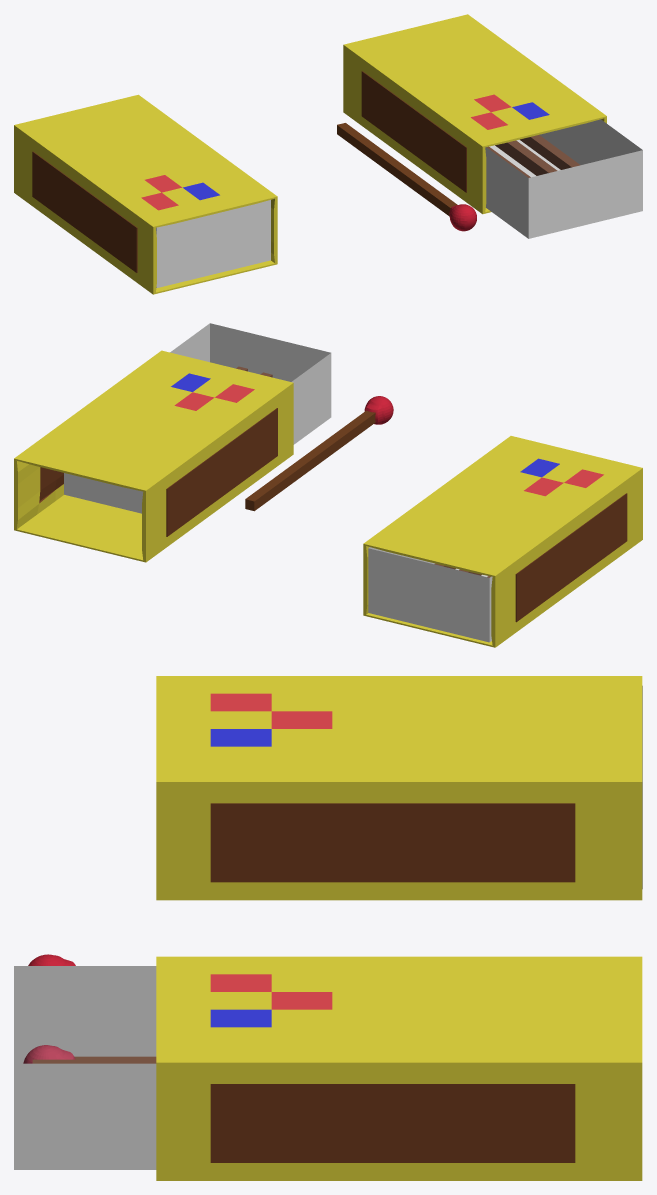
The model's file is Matches.fbx.
The picture shows the model from 3 angles, top to bottom: view 1: azimuth 30°, elevation 25°; view 2: azimuth 150°, elevation 25°; view 3: azimuth 270°, elevation 25°; orthographic projection. The views are drawn at different scales.
Parts seen in each view (by area): view 1: BoxClosed, Box.001, MatchBox, Match; view 2: BoxClosed, Box.001, MatchBox, Match; view 3: BoxClosed, Box.001, MatchBox.
Part boxes in pixels (x1,y1,x2,y2): BoxClosed: (14, 94, 277, 294); Box.001: (343, 14, 606, 214); MatchBox: (485, 119, 642, 238); Match: (337, 123, 476, 231); BoxClosed: (363, 436, 642, 647); Box.001: (14, 350, 293, 562); MatchBox: (64, 323, 331, 513); Match: (245, 396, 393, 511); BoxClosed: (156, 676, 642, 900); Box.001: (156, 956, 642, 1180); MatchBox: (14, 966, 156, 1169).
Size of the model in its own units: 958 by 136 by 657.
